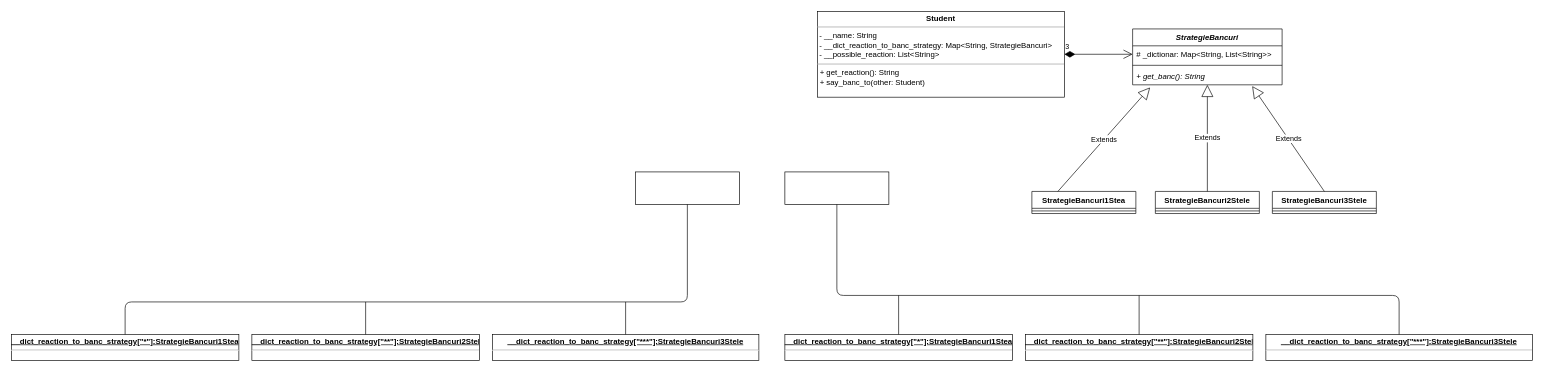
Some shapes in this 1544 by 372 pixel diagram are drawn without their labels. Here are the shapes that lost their labels. From the top down, the centre of each, then its label:
point (687, 187): s1:Student __name="alex"
point (836, 187): s2:Student __name="gigi"
